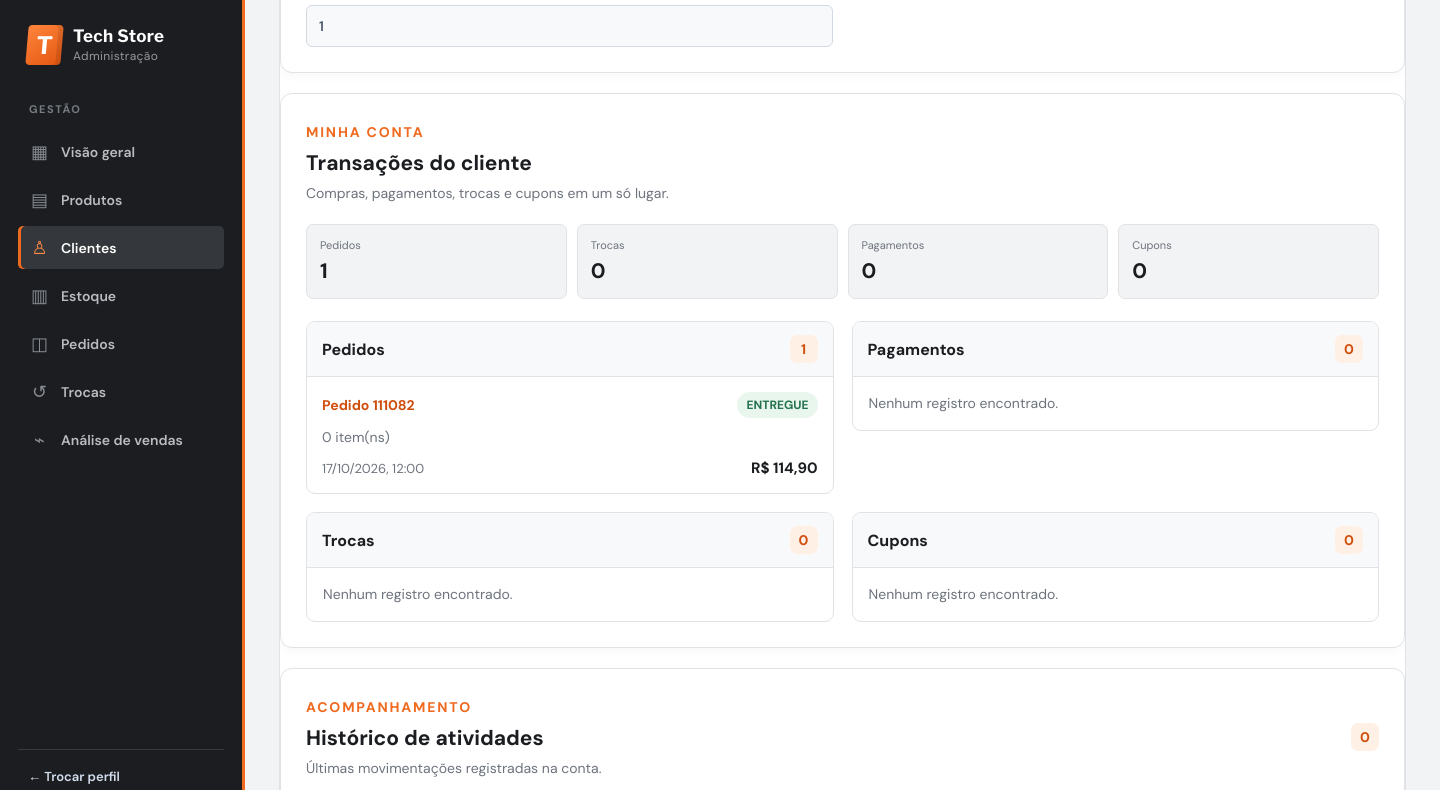
Scenario: Tech Store conectada à API › abre o pedido do histórico administrativo sem exigir perfil de cliente
(page scrolled)
Click the link "Pedido 111082".
click(368, 405)  # box [322,396,415,414]
(page scrolled)
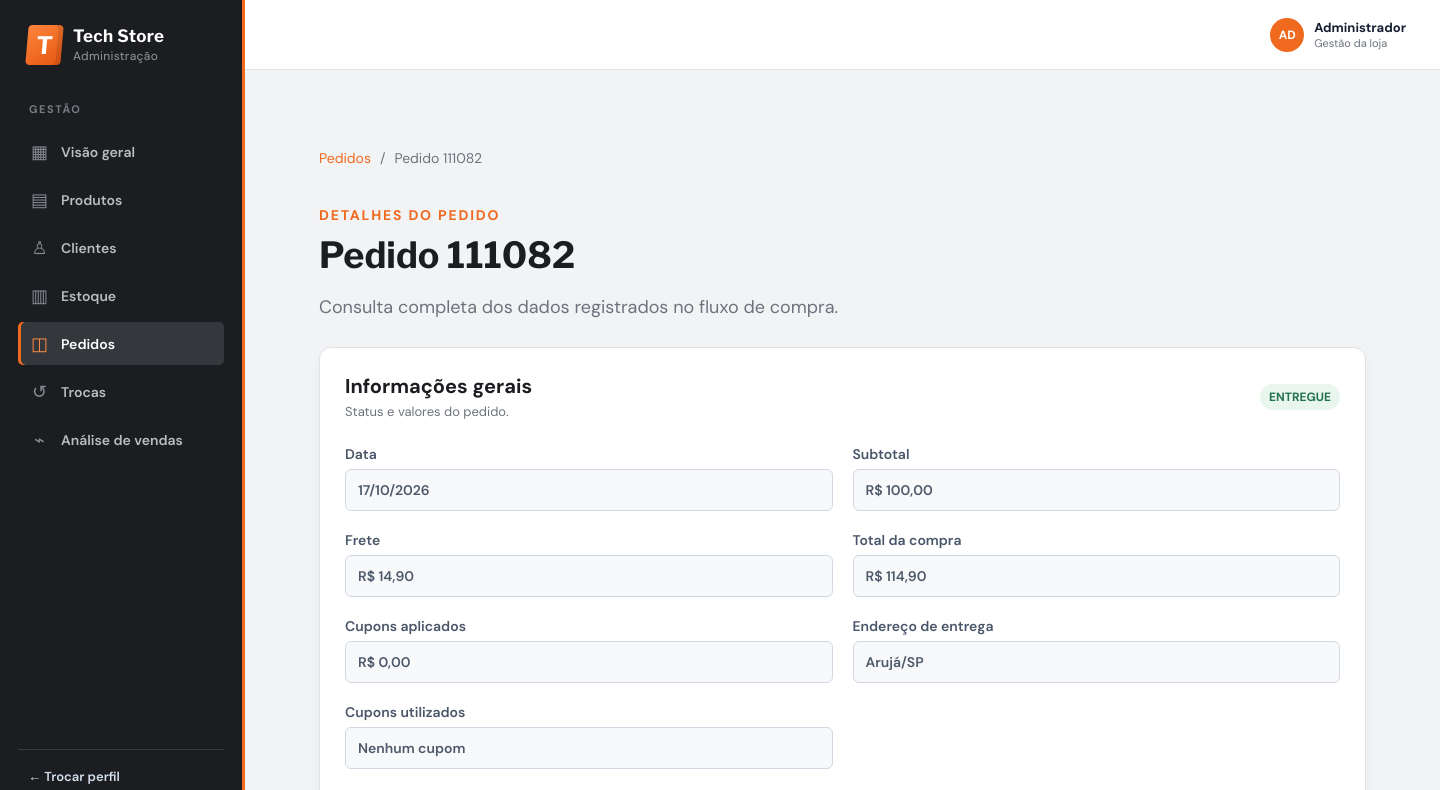
Result: the heading "Pedido 111082" is shown at [319,233,575,277]
